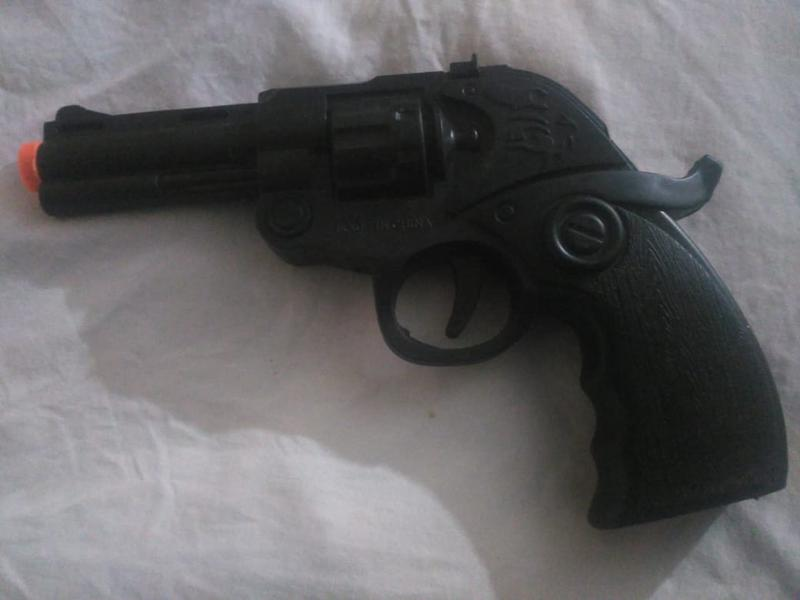gun: (9, 35, 800, 573)
